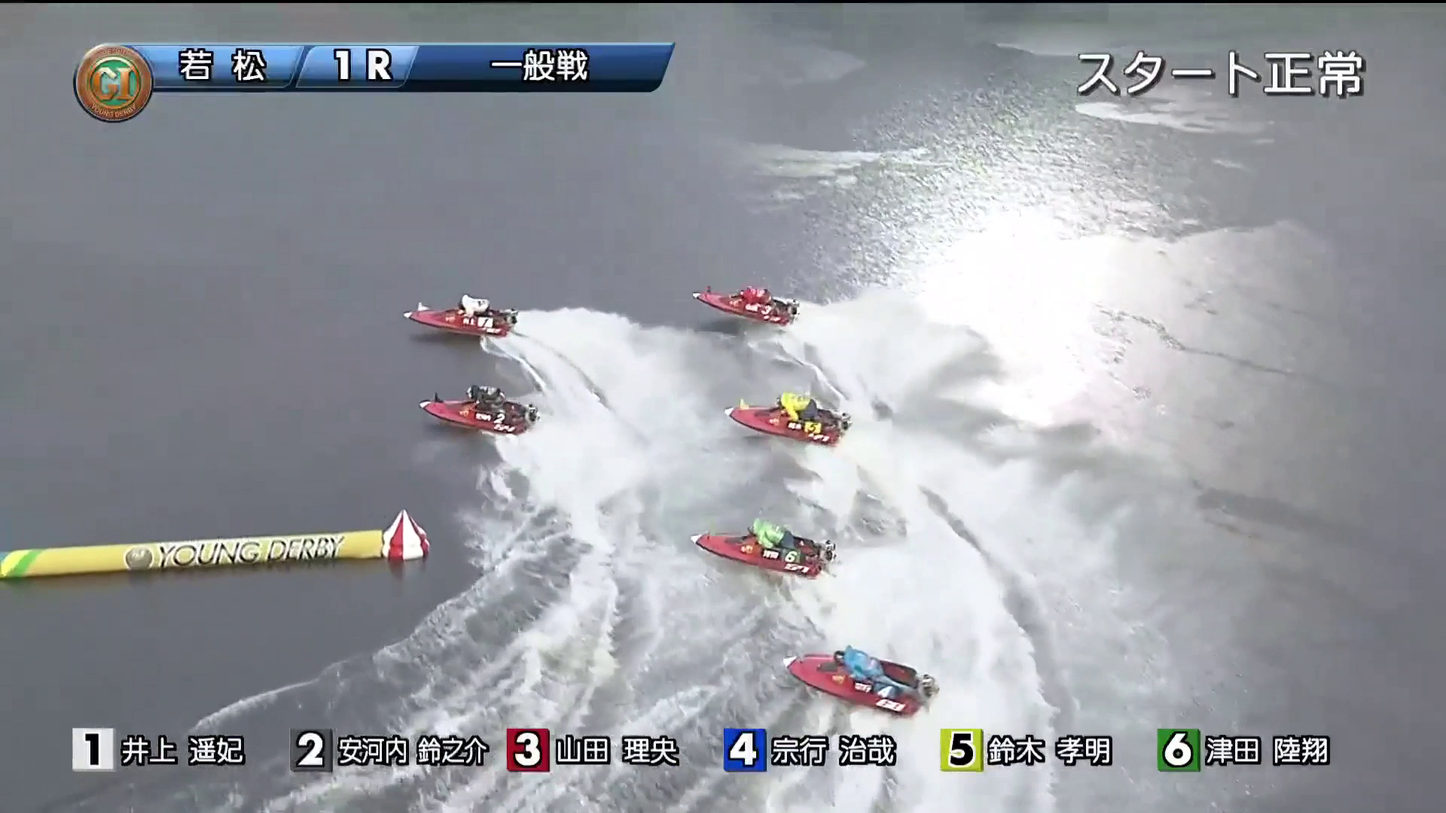１号艇: (447, 287, 517, 341)
２号艇: (425, 370, 554, 431)
３号艇: (711, 276, 808, 324)
４号艇: (721, 515, 855, 581)
５号艇: (807, 655, 931, 710)
６号艇: (741, 357, 841, 437)
